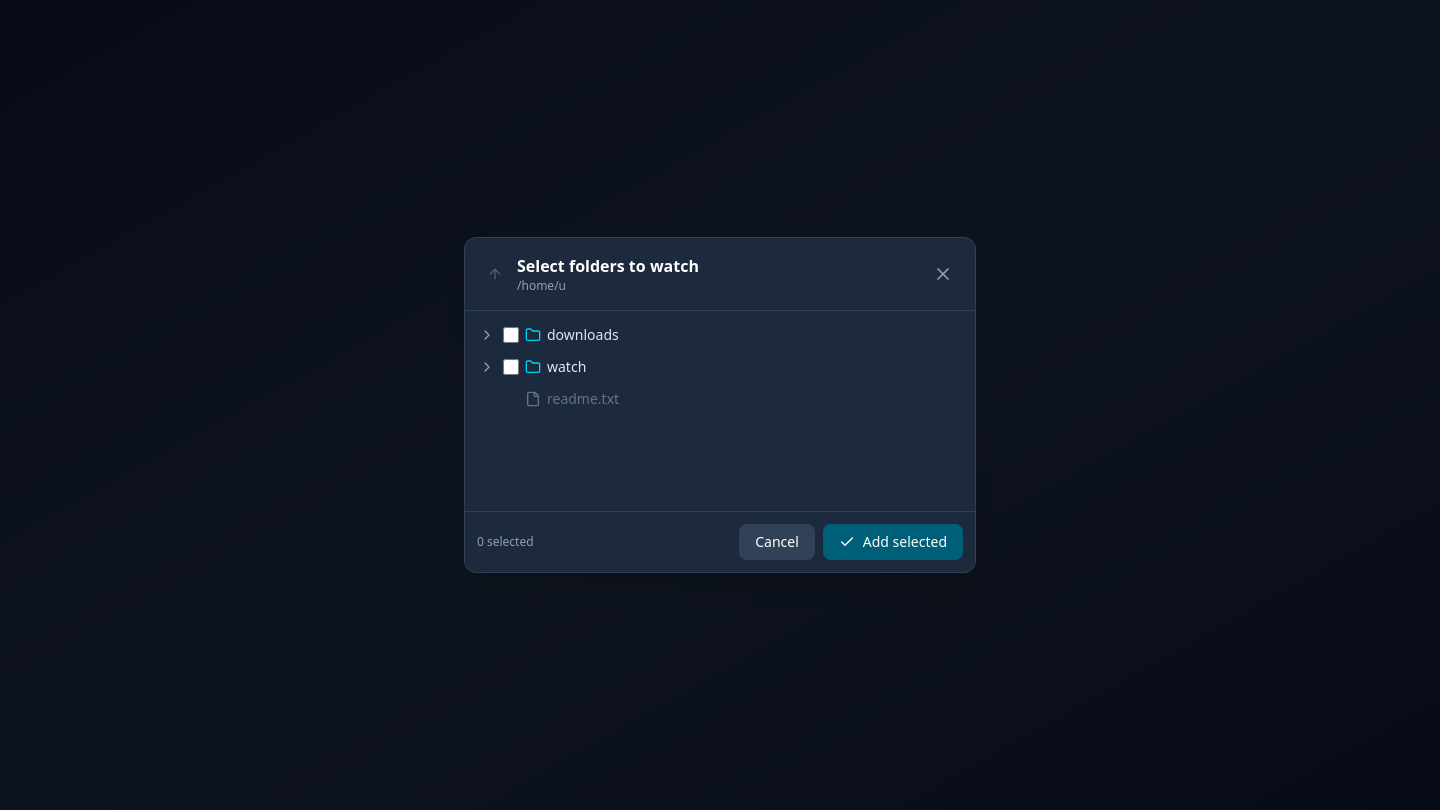
FolderBrowser › expands a folder on its chevron, loads its children once, and collapses again
Expected: the button "downloads" is shown, [547,325,959,345]
Click the 1st button named "Expand": [487, 335] box [477,325,497,345]
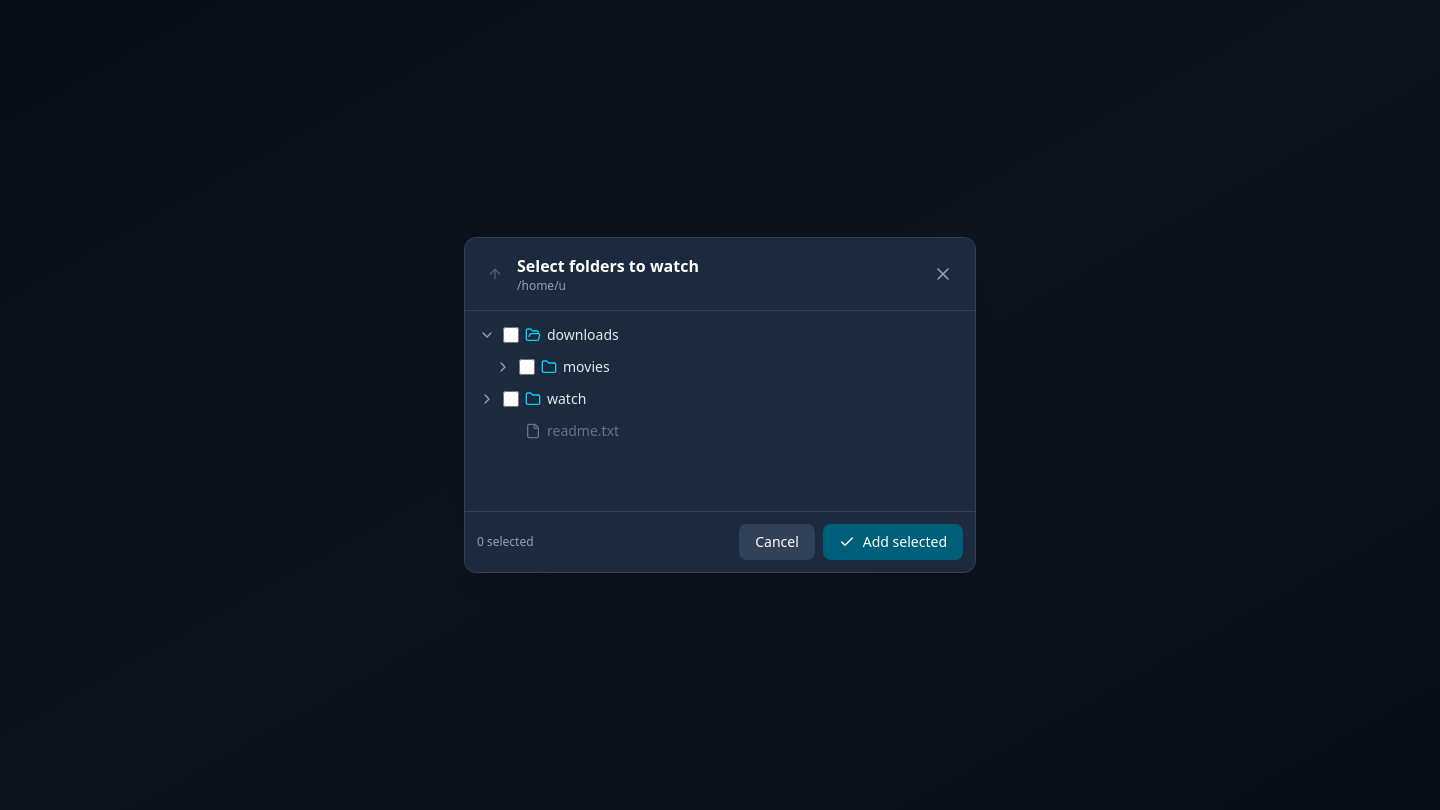
Now the button "movies" is shown, box [563,357,959,377]
Click the button named "Collapse": [487, 335] box [477,325,497,345]
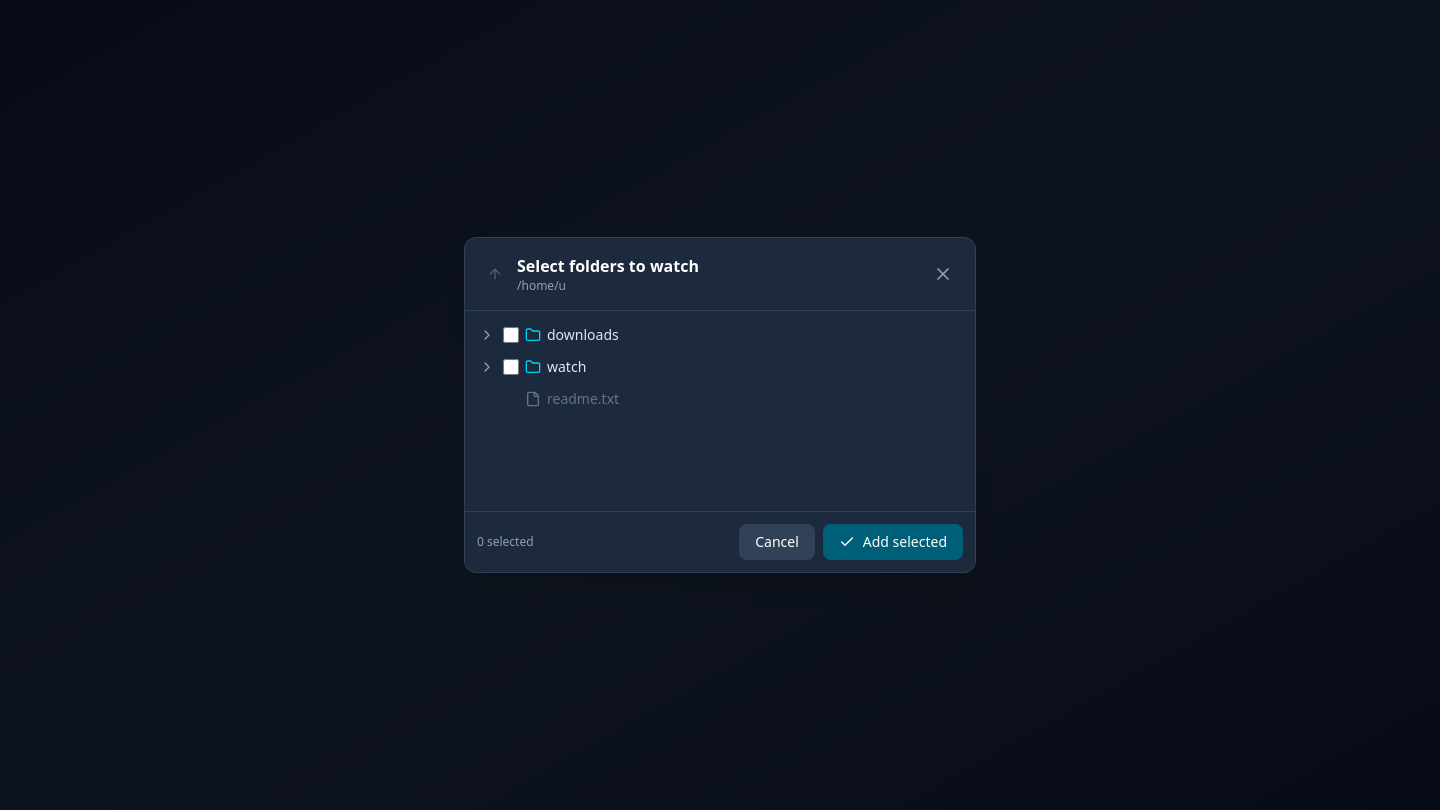
Now the button "movies" is gone
Click the 1st button named "Expand": [487, 335] box [477,325,497,345]
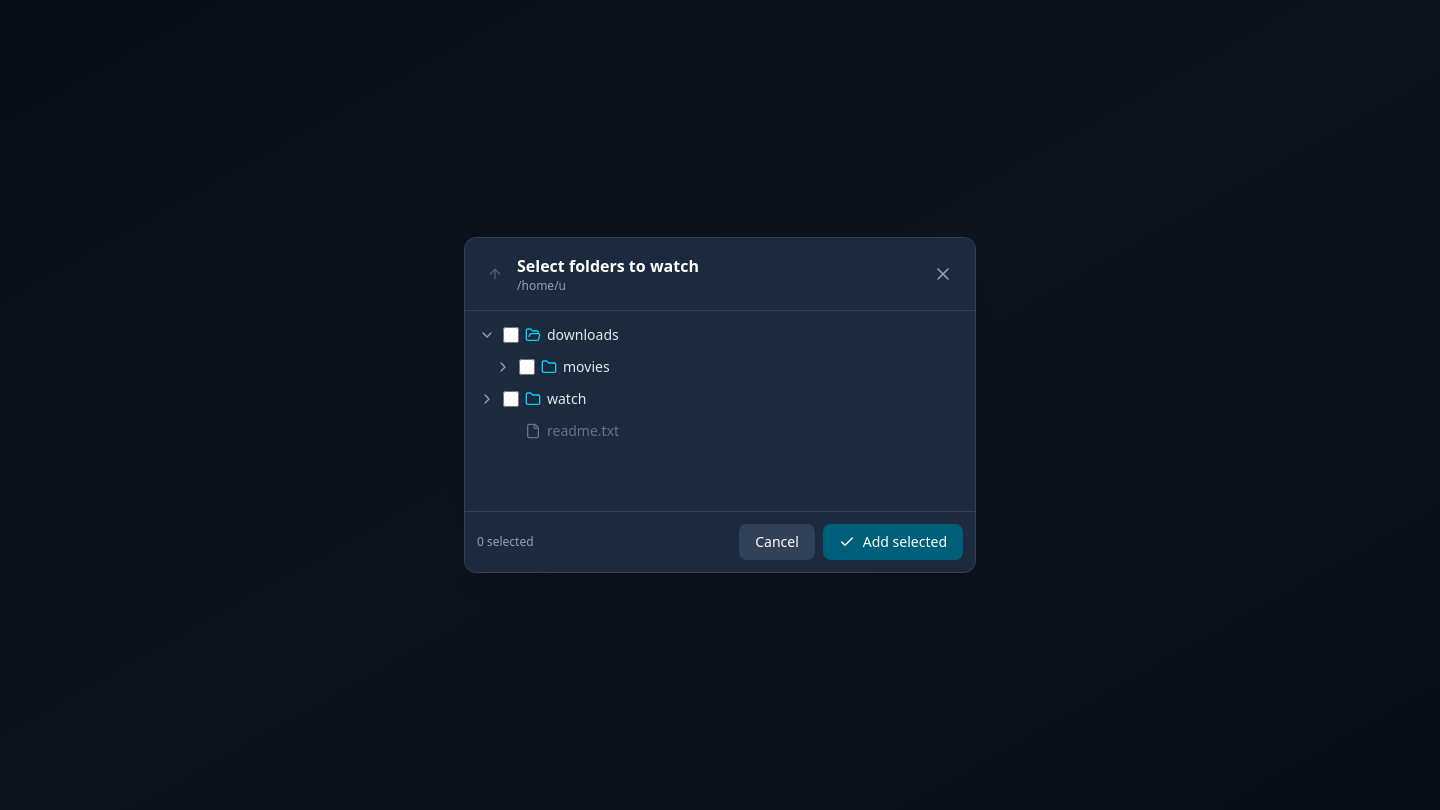
Now the button "movies" is shown, box [563,357,959,377]
Click the 2nd button named "Expand": [487, 399] box [477,389,497,409]
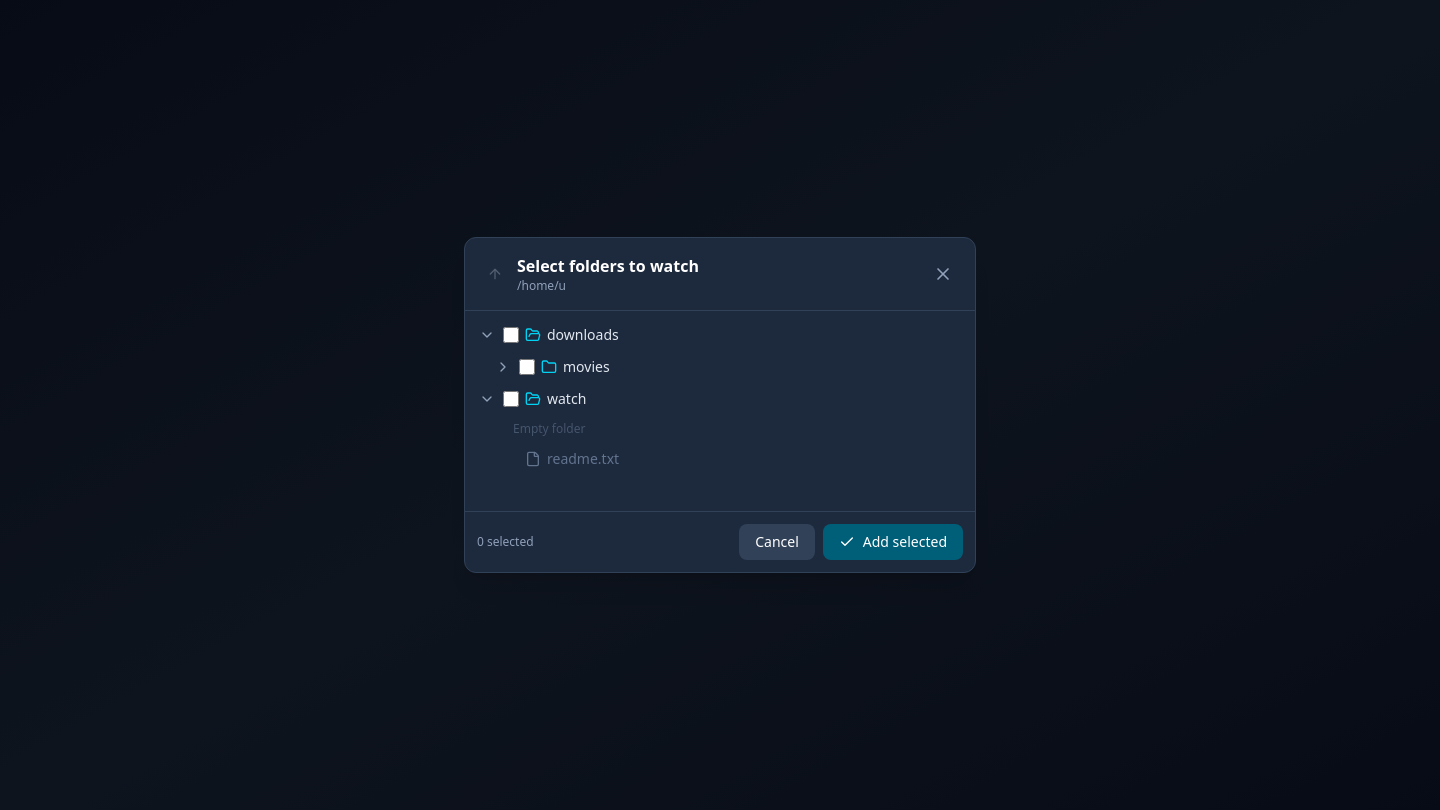
Now the text "Empty folder" is shown, box [513,420,585,437]
